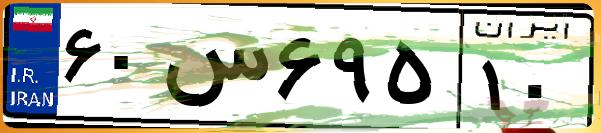0: (525, 38, 570, 115), (110, 28, 158, 98)
1: (475, 38, 525, 113)
5: (385, 28, 445, 110)
6: (270, 28, 330, 110), (57, 26, 110, 100)
9: (330, 28, 385, 110)
س: (158, 20, 270, 120)
